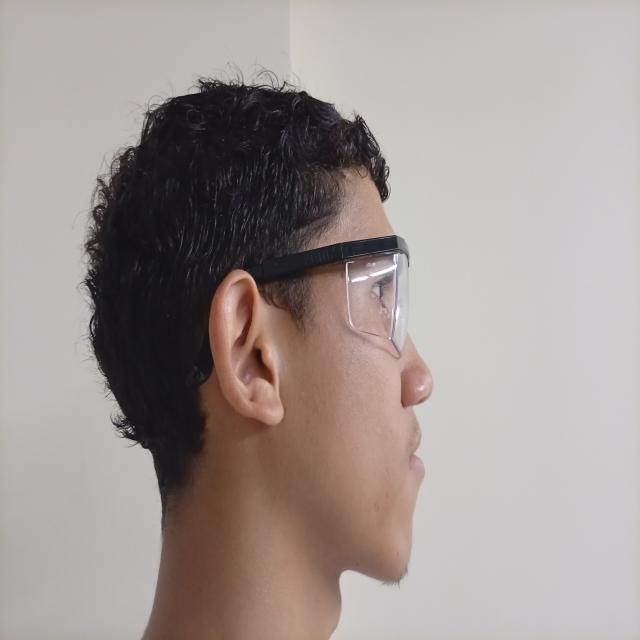oculos-epi: (250, 237, 412, 354)
